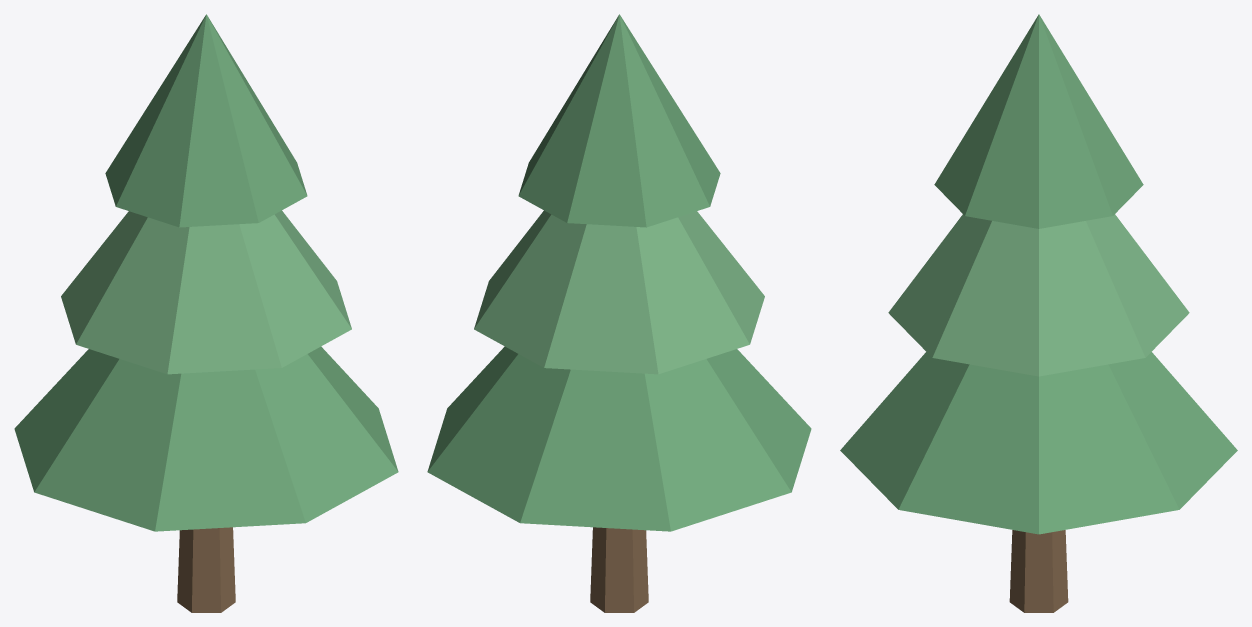
The model's file is arbre_conifere.glb.
3 renders of one model, left to right at view 1: azimuth 30°, elevation 25°; view 2: azimuth 150°, elevation 25°; view 3: azimuth 270°, elevation 25°, orthographic.
Visible parts, largest first — view 1: Cone.001, Cone.002, Cone.003, Cone; view 2: Cone.001, Cone.002, Cone.003, Cone; view 3: Cone.001, Cone.002, Cone.003, Cone.
Boxes of the visible parts, x1,y1,x2,y2 form: Cone.001: (14, 346, 398, 531); Cone.002: (61, 210, 351, 374); Cone.003: (105, 14, 307, 227); Cone: (177, 527, 235, 612); Cone.001: (427, 346, 811, 531); Cone.002: (474, 210, 764, 374); Cone.003: (518, 14, 720, 227); Cone: (590, 527, 648, 612); Cone.001: (840, 352, 1237, 534); Cone.002: (888, 214, 1189, 376); Cone.003: (934, 14, 1143, 228); Cone: (1009, 530, 1068, 612).
Size of the model in its own units: 1.9 by 3.1 by 1.9.
